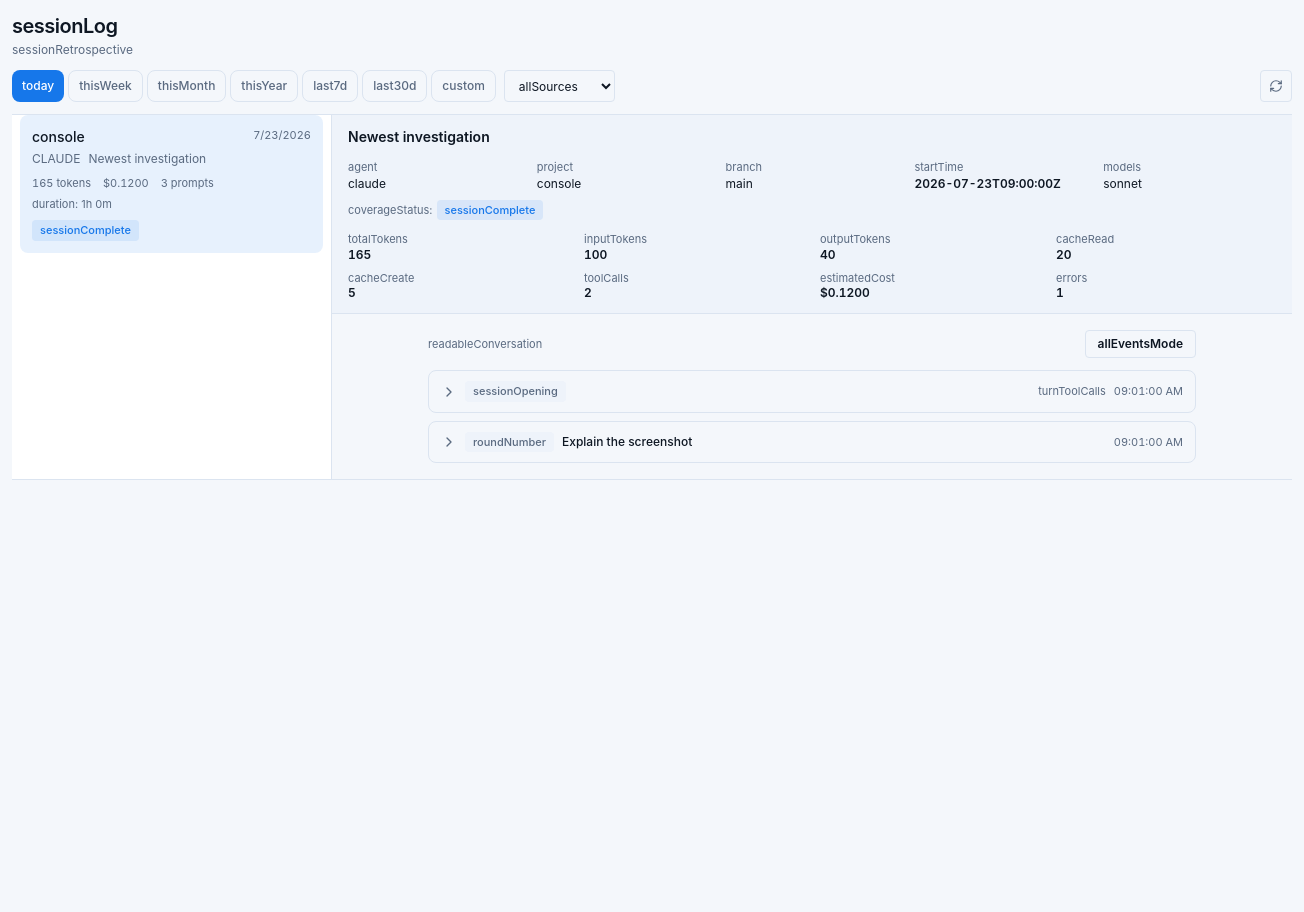
Scenario: session retrospective center › never reveals transport artifacts in all-events mode
Click the button "allEventsMode". click: x=1140, y=344
box: [1085, 330, 1196, 358]
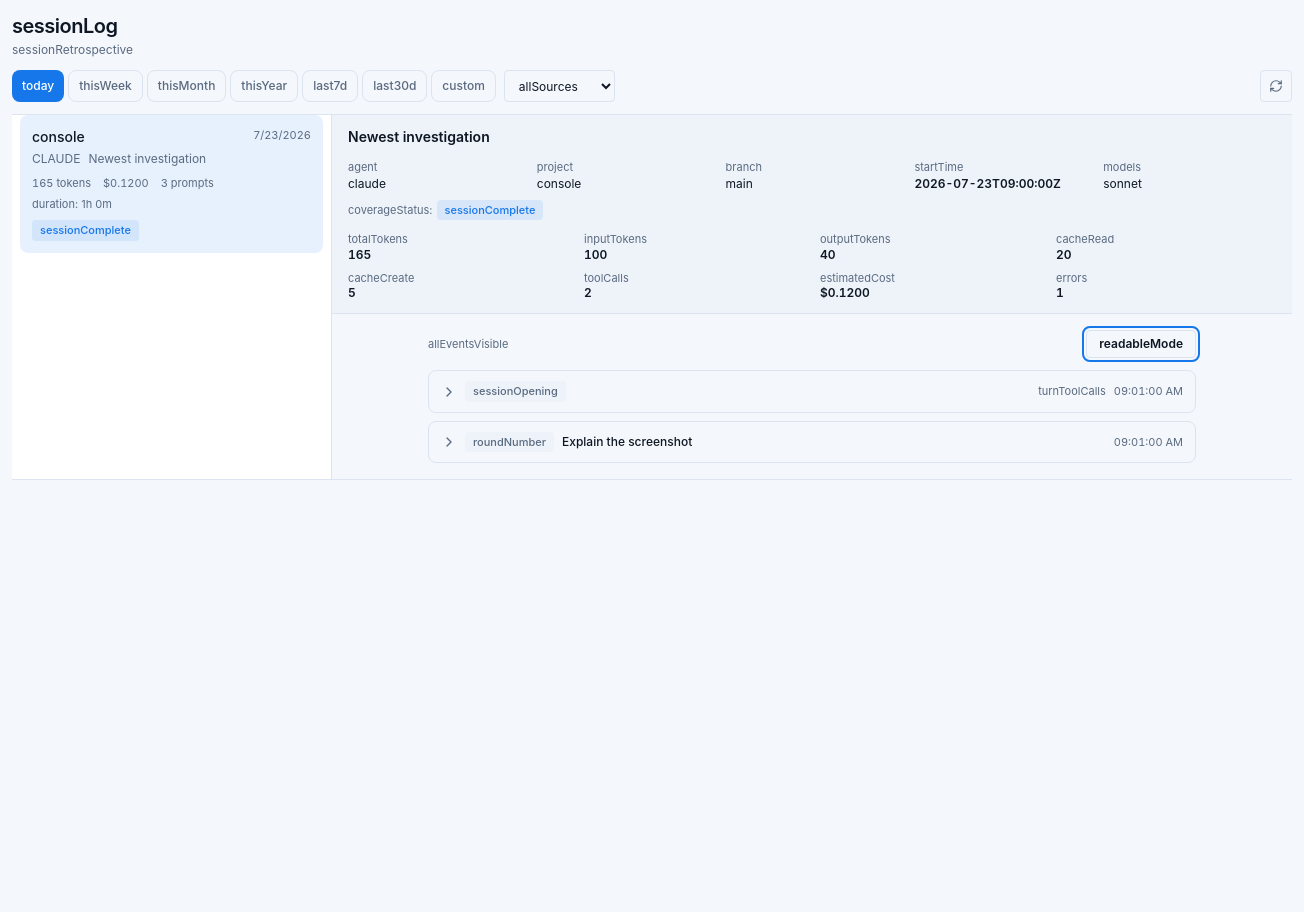
Click the heading "sessionOpening turnToolCalls 09:01:00 AM". click: x=515, y=392
box: [441, 381, 1183, 402]
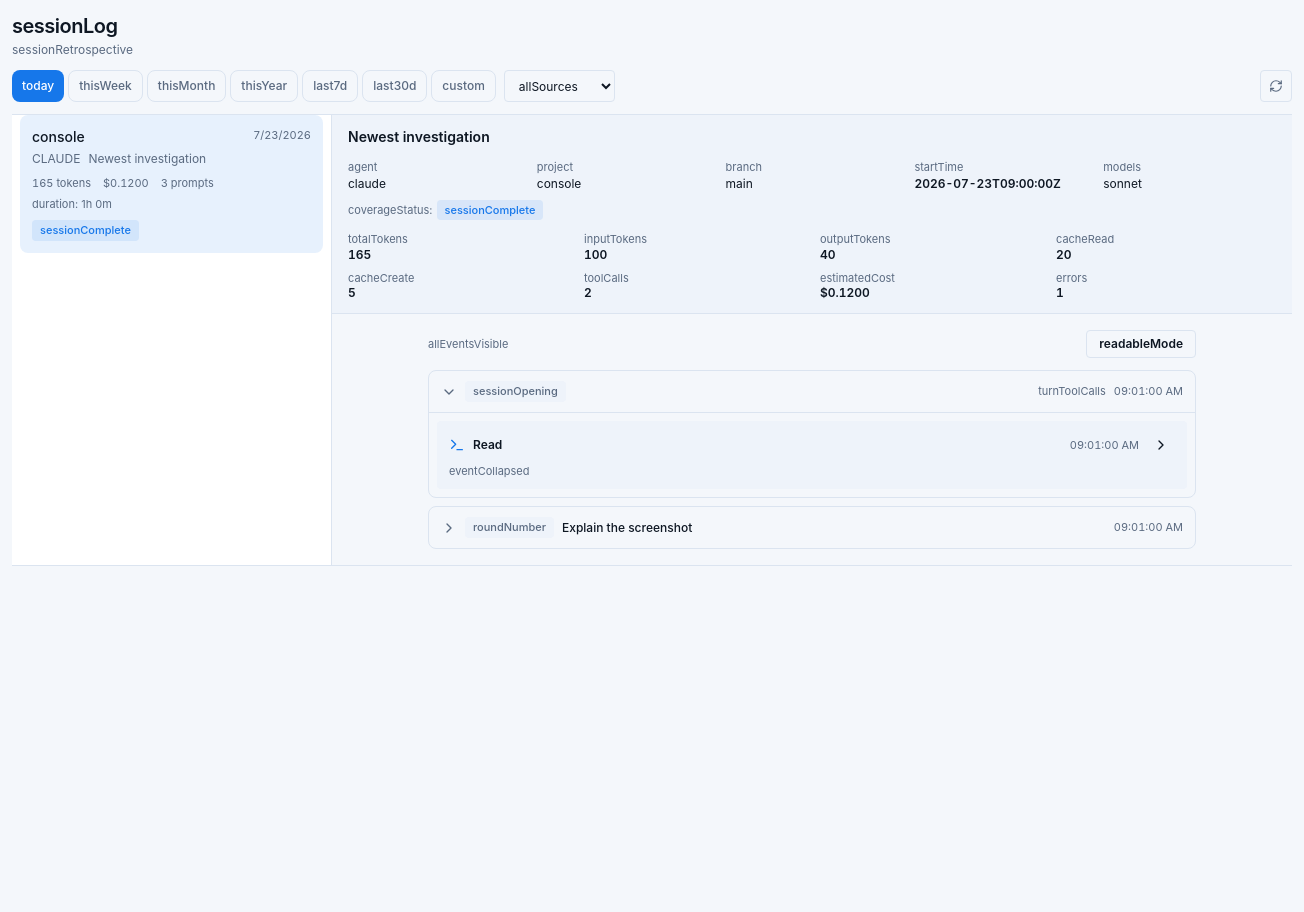
Click the heading "roundNumber Explain the screenshot 09:01:00 AM". click: x=509, y=528
box: [441, 517, 1183, 538]
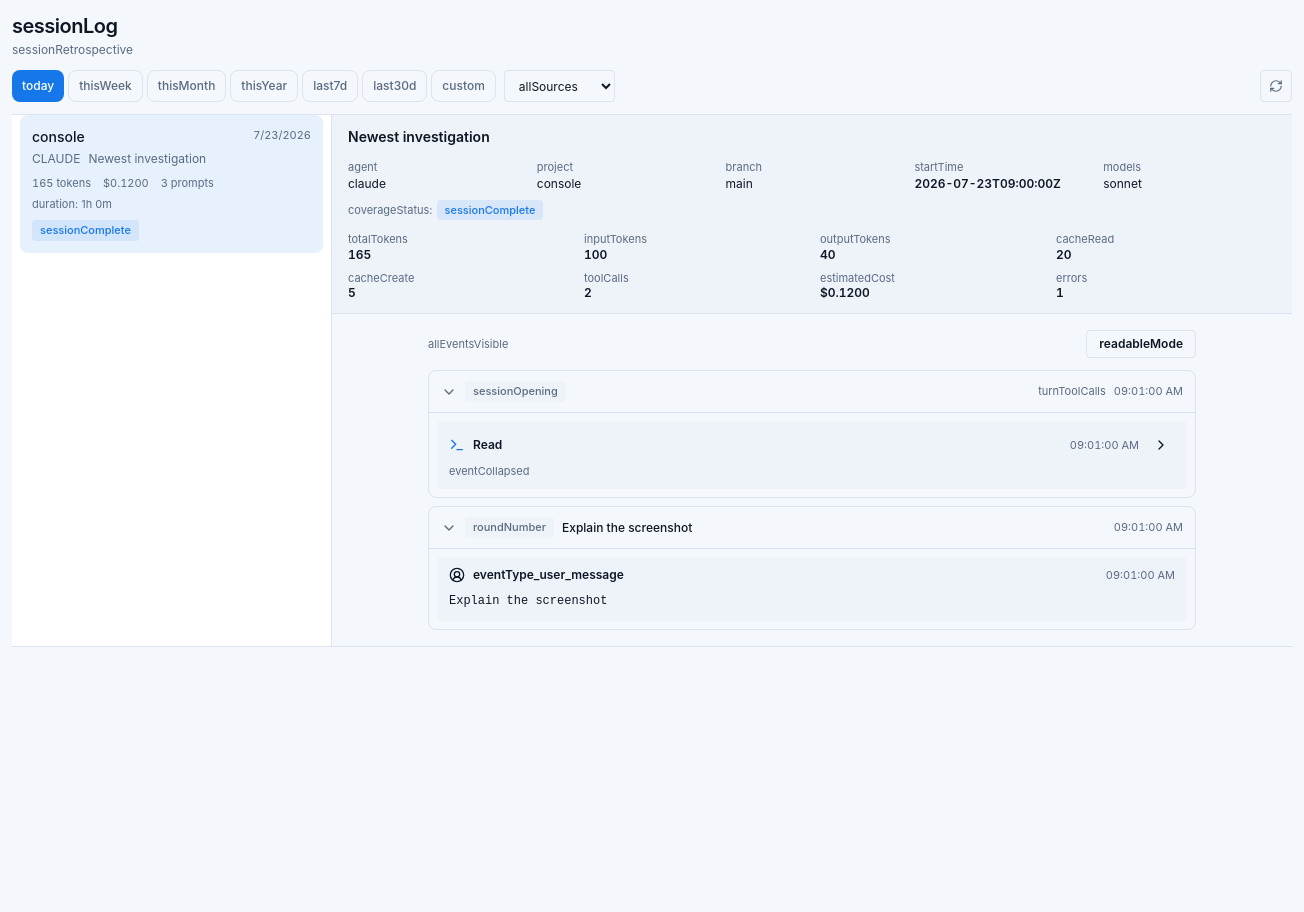
Result: the element with test id "event-card-33" is shown at [437, 421, 1187, 489]
Result: the text "Explain the screenshot" below "eventType_user_message" is shown at [449, 594, 607, 608]
